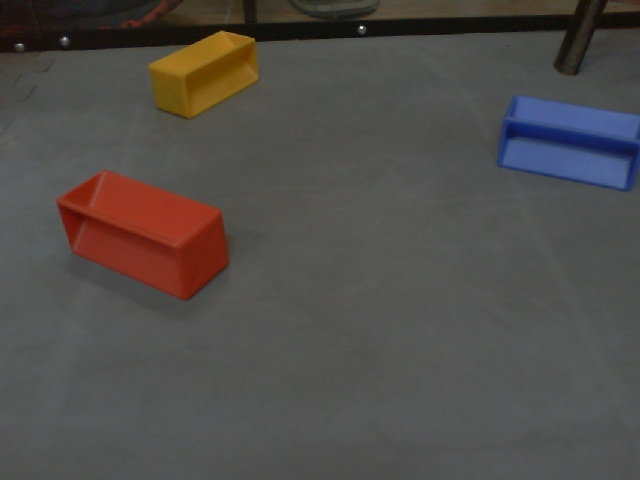BlueSample: (494, 92, 640, 197)
RedSample: (54, 167, 229, 302)
YellowSample: (148, 28, 262, 122)
